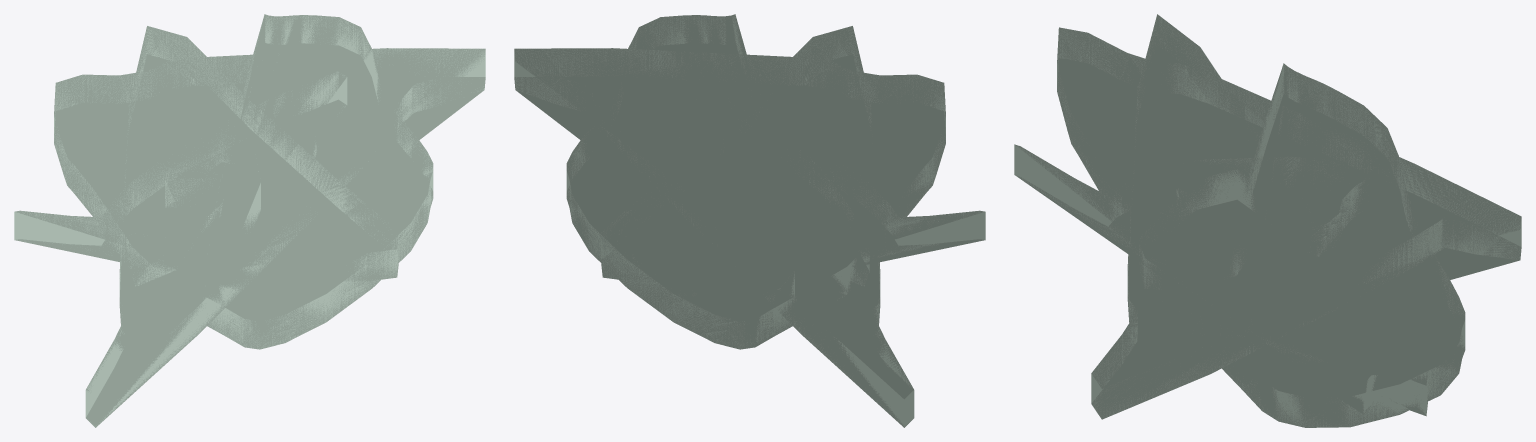
File: udonmen.fbx
The picture shows the model from 3 angles, left to right: view 1: azimuth 30°, elevation 25°; view 2: azimuth 150°, elevation 25°; view 3: azimuth 330°, elevation 25°; orthographic projection. The views are drawn at different scales.
Parts seen in each view (by area): view 1: 閉じた線形状の掃引体_ncl1_1, 閉じた線形状の掃引体, 閉じた線形状の掃引体_ncl1_2; view 2: 閉じた線形状の掃引体_ncl1_1, 閉じた線形状の掃引体, 閉じた線形状の掃引体_ncl1_2; view 3: 閉じた線形状の掃引体, 閉じた線形状の掃引体_ncl1_1, 閉じた線形状の掃引体_ncl1_2.
Boxes of the visible parts, <box> form: 閉じた線形状の掃引体_ncl1_1: <box>15,14,485,391</box>; 閉じた線形状の掃引体: <box>15,43,485,427</box>; 閉じた線形状の掃引体_ncl1_2: <box>14,15,485,426</box>; 閉じた線形状の掃引体_ncl1_1: <box>514,14,984,399</box>; 閉じた線形状の掃引体: <box>514,43,985,427</box>; 閉じた線形状の掃引体_ncl1_2: <box>514,14,985,427</box>; 閉じた線形状の掃引体: <box>1015,45,1521,427</box>; 閉じた線形状の掃引体_ncl1_1: <box>1015,14,1521,395</box>; 閉じた線形状の掃引体_ncl1_2: <box>1014,15,1521,427</box>.
Bounding box in the file's own units: 347 × 274 × 0.
